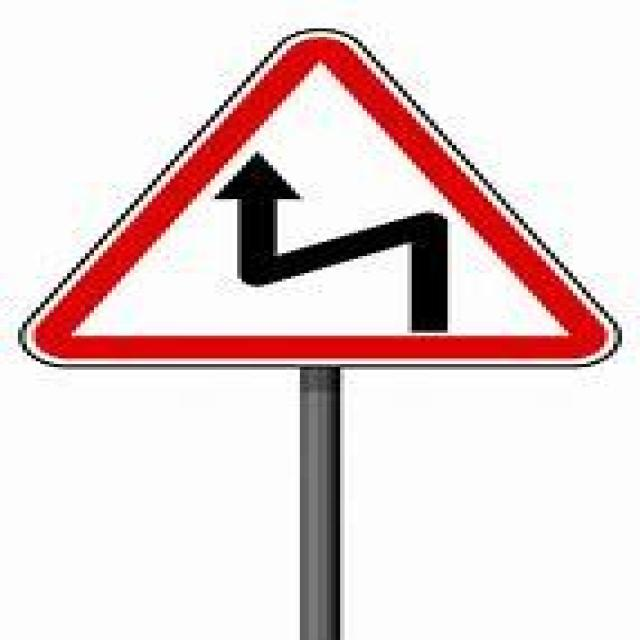LEFT_REVERSE_BEND: (20, 29, 628, 366)
